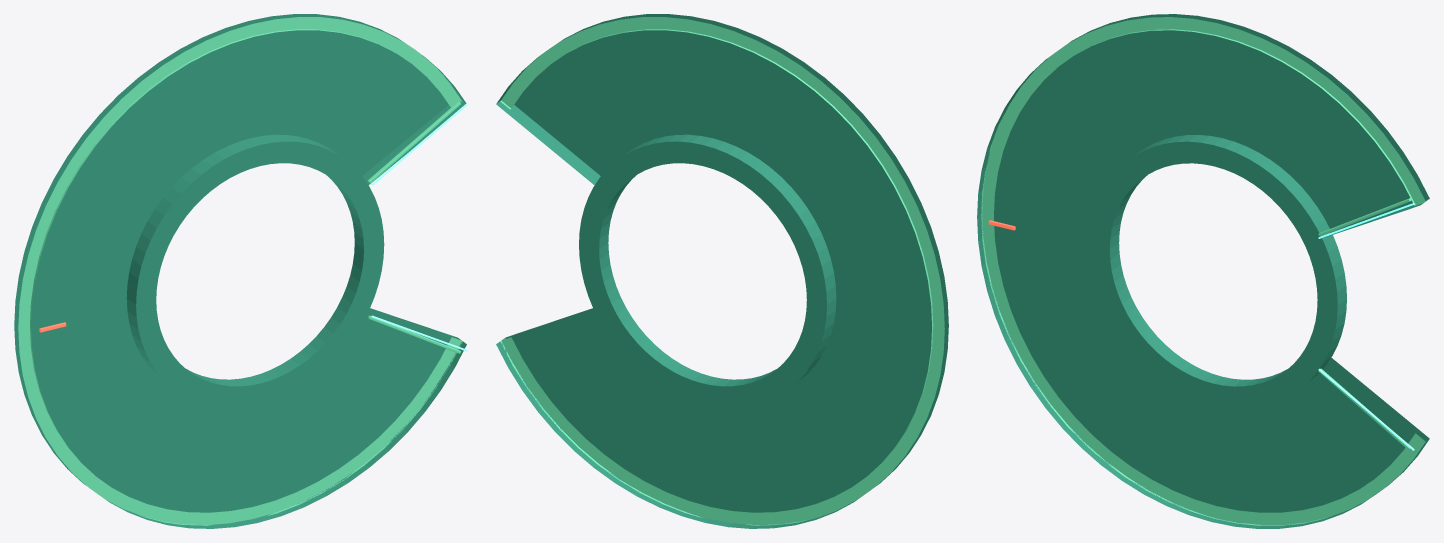
Rendered from bio-panel-fun4-high.glb.
The picture shows the model from 3 angles, left to right: view 1: azimuth 30°, elevation 25°; view 2: azimuth 150°, elevation 25°; view 3: azimuth 330°, elevation 25°; orthographic projection.
Parts seen in each view (by area): view 1: RENDER_PANEL_SHELL, RENDER_PANEL_FRAME, RENDER_PANEL_SIGNAL; view 2: RENDER_PANEL_SHELL, RENDER_PANEL_FRAME; view 3: RENDER_PANEL_SHELL, RENDER_PANEL_FRAME, RENDER_PANEL_SIGNAL.
Boxes of the visible parts, box(x1,y1,x2,y2) form: RENDER_PANEL_SHELL: box(14, 14, 466, 528); RENDER_PANEL_FRAME: box(18, 17, 462, 525); RENDER_PANEL_SIGNAL: box(371, 103, 467, 351); RENDER_PANEL_SHELL: box(496, 14, 948, 528); RENDER_PANEL_FRAME: box(500, 17, 944, 525); RENDER_PANEL_SHELL: box(977, 14, 1429, 528); RENDER_PANEL_FRAME: box(981, 17, 1425, 525); RENDER_PANEL_SIGNAL: box(1318, 203, 1414, 450).
Size of what is drawn, in the model's own units: 38.43 by 41 by 1.95.
